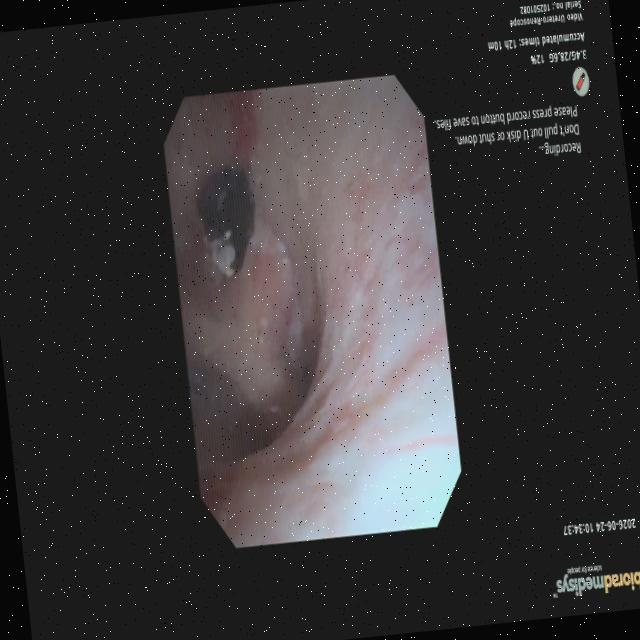stone-new: (200, 168, 255, 277)
